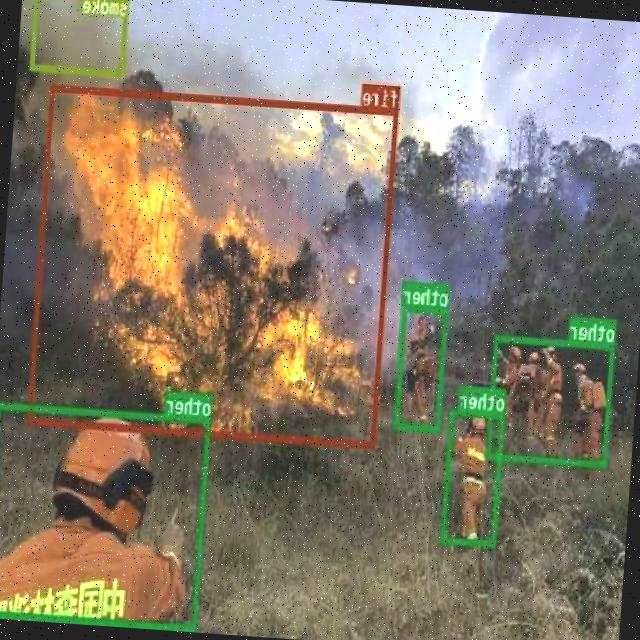fire: (28, 84, 400, 446)
smoke: (31, 0, 130, 74)
